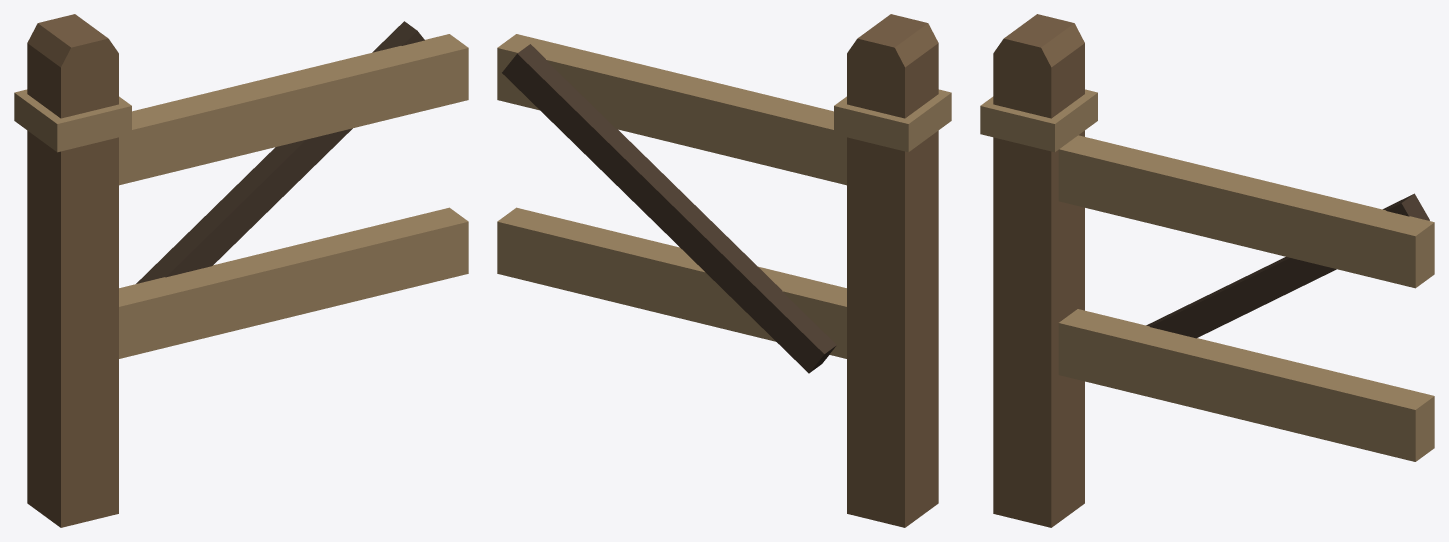
Rendered from TW_WOOD_RAIL_1M_B_LOD0.glb.
3 renders of one model, left to right at view 1: azimuth 30°, elevation 25°; view 2: azimuth 150°, elevation 25°; view 3: azimuth 330°, elevation 25°, orthographic.
Parts seen in each view (by area): view 1: TW_WOOD_RAIL_1M_B_LOD0; view 2: TW_WOOD_RAIL_1M_B_LOD0; view 3: TW_WOOD_RAIL_1M_B_LOD0.
Boxes of the visible parts, left/top/right/bottom form: TW_WOOD_RAIL_1M_B_LOD0: left=14, top=14, right=468, bottom=527; TW_WOOD_RAIL_1M_B_LOD0: left=497, top=14, right=951, bottom=527; TW_WOOD_RAIL_1M_B_LOD0: left=980, top=14, right=1434, bottom=527.
Bounding box in the file's own units: 1.02 × 1.1 × 0.1825.
1 material, 1 textured.
